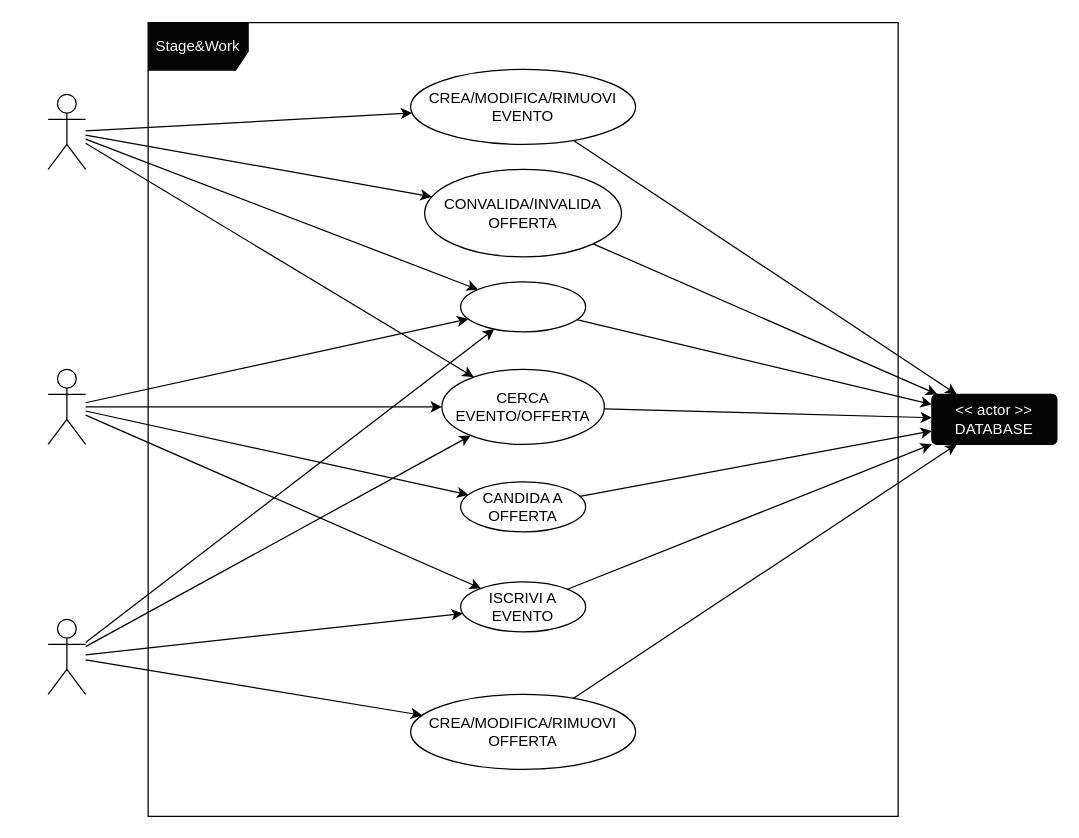
Some shapes in this 1079 by 838 pixel diagram are drawn without their labels. Each missing label, with the centre of its shape:
COMPANY: the point at 66,656
LOGIN: the point at 522,306
STUDENT: the point at 66,406
UNIVERSITY: the point at 66,131
